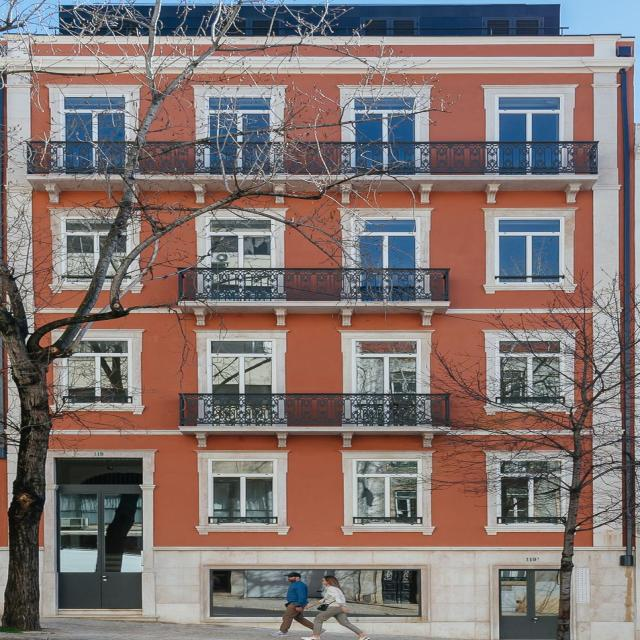Railing: (34, 142, 600, 174), (181, 266, 455, 301), (183, 392, 455, 427)
door: (56, 484, 139, 609), (501, 571, 562, 637)
wall: (6, 4, 631, 640)
windows: (297, 570, 423, 620), (69, 218, 134, 284), (212, 568, 299, 616), (353, 462, 420, 522), (66, 340, 130, 402), (503, 219, 564, 281), (210, 462, 273, 522), (355, 339, 421, 393), (504, 342, 561, 402), (499, 463, 557, 521), (61, 96, 130, 142), (212, 220, 276, 268), (213, 340, 269, 393), (355, 96, 419, 142), (212, 96, 273, 143), (362, 221, 418, 269), (502, 96, 558, 142), (56, 458, 146, 483), (207, 19, 286, 36), (360, 15, 420, 36), (485, 19, 542, 36), (98, 18, 158, 34)
